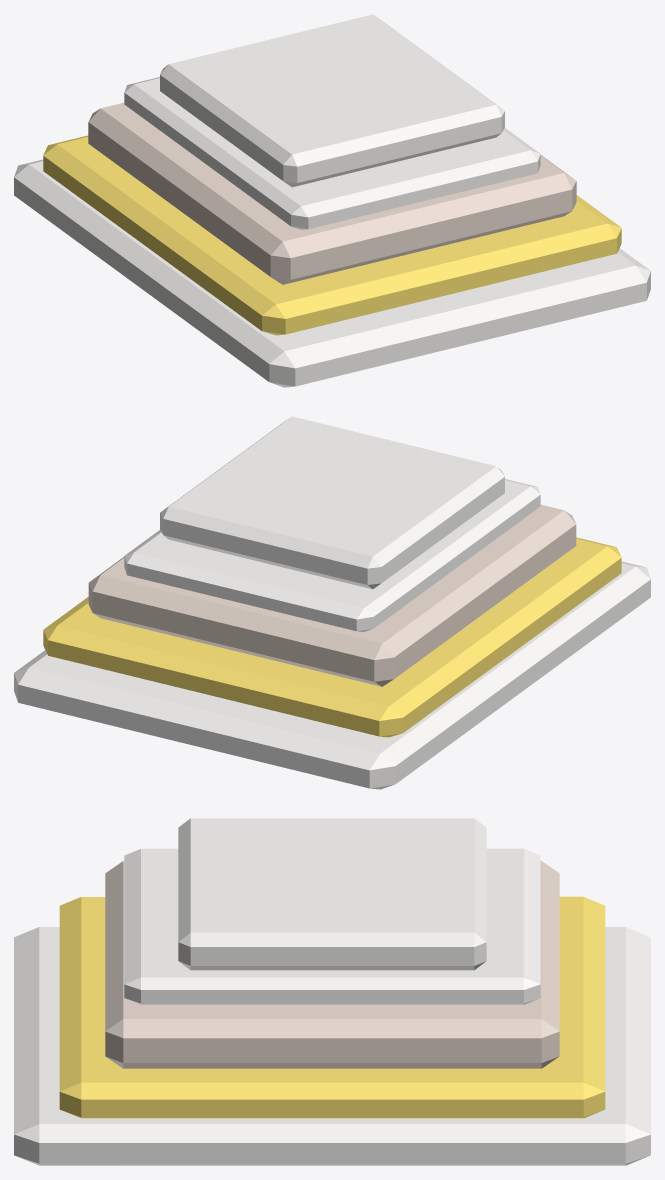
The model's file is Towels_4.fbx.
3 views of the same model, one above another, from view 1: azimuth 30°, elevation 25°; view 2: azimuth 150°, elevation 25°; view 3: azimuth 270°, elevation 25° (orthographic). The views are drawn at different scales.
Visible parts, largest first — view 1: Towels_4; view 2: Towels_4; view 3: Towels_4.
Part boxes in pixels (x1=…): Towels_4: x1=14, y1=14, x2=650, y2=387; Towels_4: x1=14, y1=416, x2=650, y2=789; Towels_4: x1=14, y1=818, x2=650, y2=1165.
Bounding box in the file's own units: 27.8 × 34.96 × 11.61.
